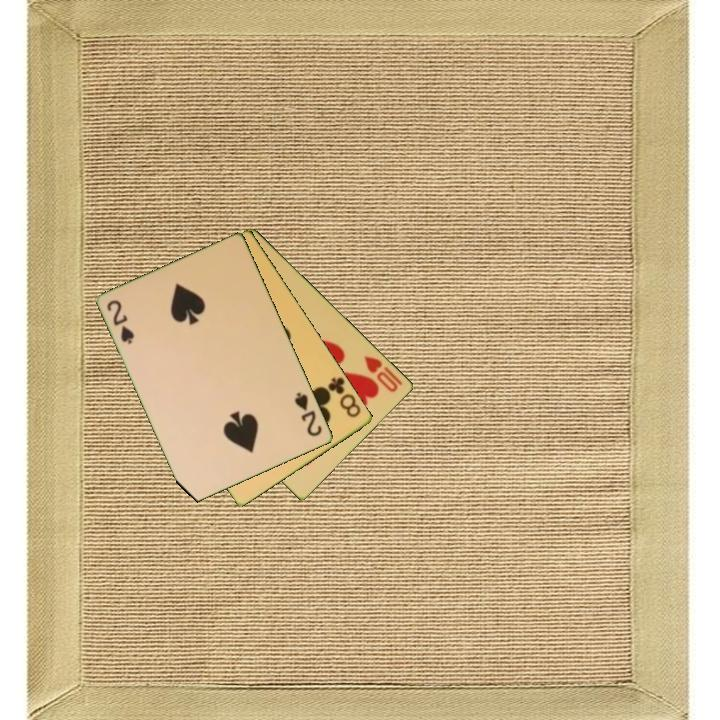10h: (361, 352, 406, 395)
2s: (291, 389, 325, 440), (104, 297, 138, 347)
8c: (322, 374, 364, 421)
